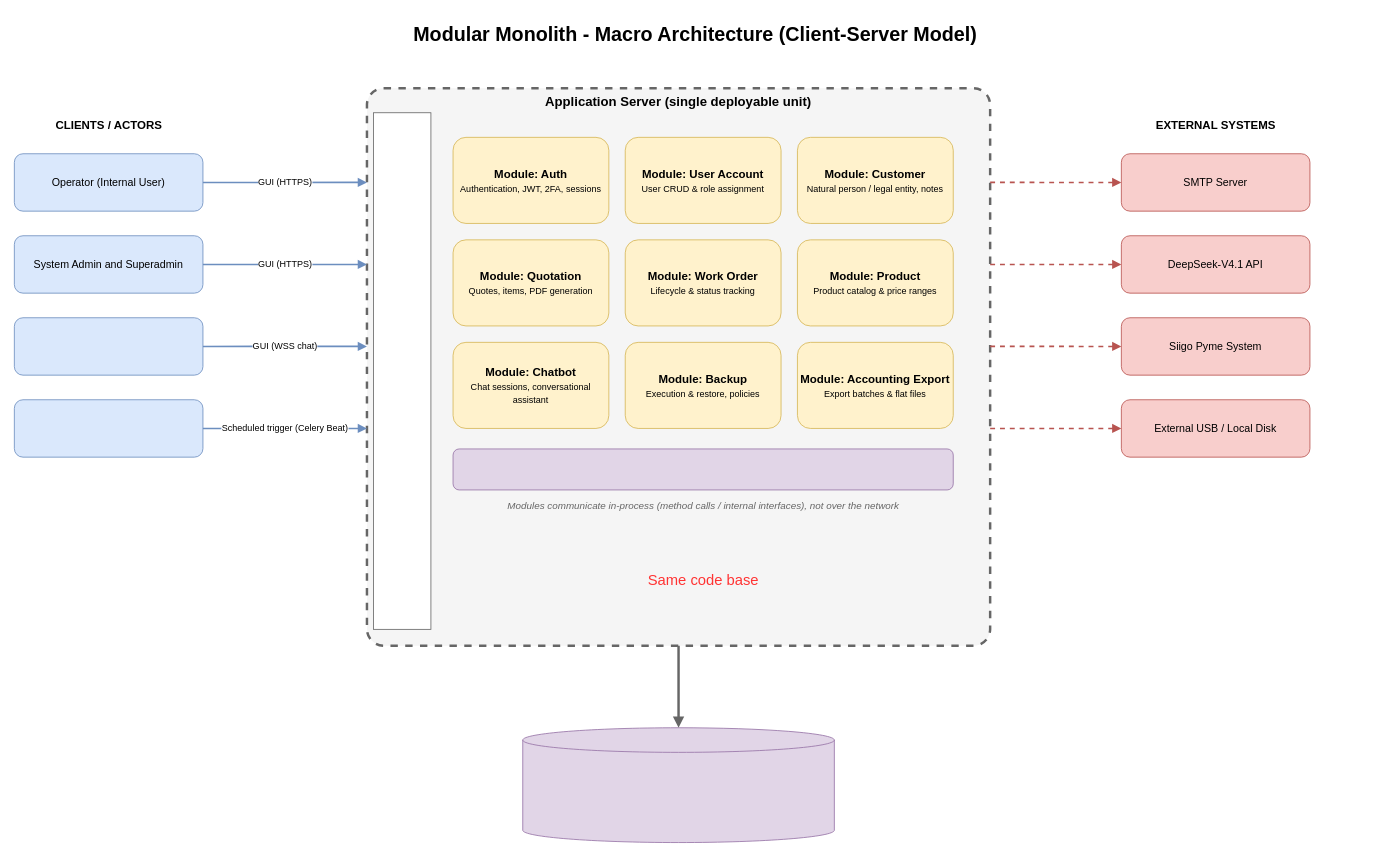
Some shapes in this 1390 by 857 pixel diagram are drawn without their labels. Each missing label, with the box of its shape:
API Django REST API · WebSocket (Channels): (373, 112, 431, 629)
Cron / Task Scheduler: (14, 399, 203, 457)
Database PostgreSQL single shared database: (522, 727, 834, 843)
External Customer / Requester: (14, 317, 203, 375)
Shared Kernel · Security · Audit · Notifications · Common value objects: (452, 448, 953, 490)
